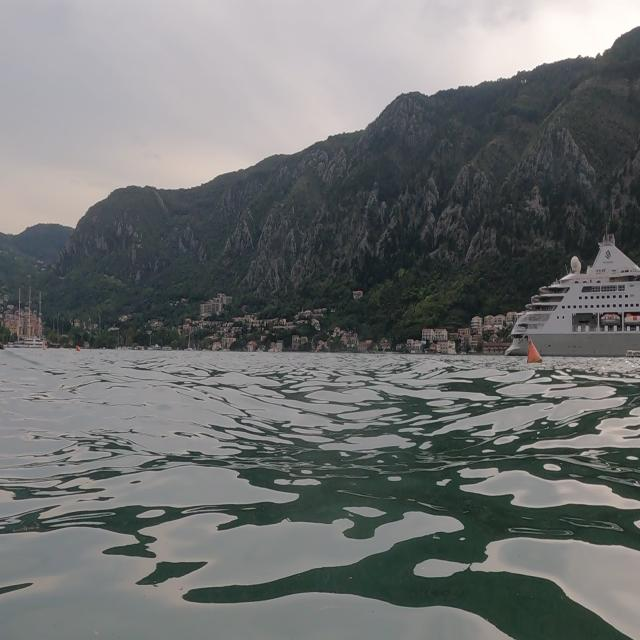boat: (503, 223, 639, 361)
buoy: (521, 334, 545, 376)
